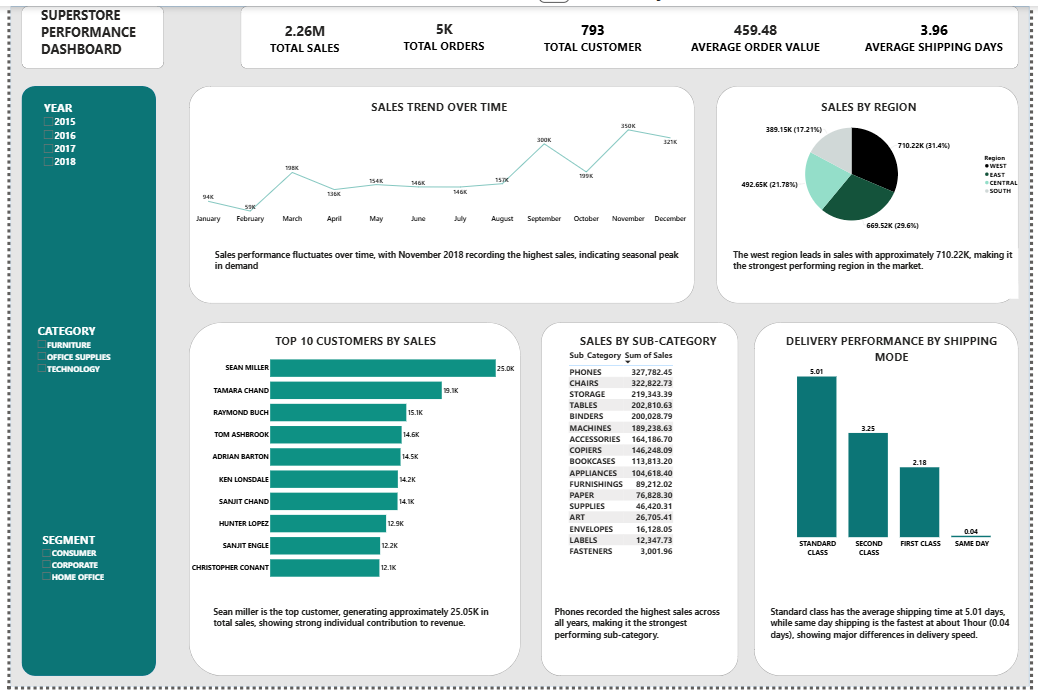

This screenshot's page, from the dashboard's own definition file:
{"tool":"powerbi","page":{"name":"Page 3","canvas":[6000,4000],"ordinal":0},"visuals":[{"type":"shape","box":[0,0,5990.9,4003.2],"z":0,"group":"g1"},{"type":"shape","box":[64.4,0,837.4,368.1],"z":1000,"group":"g1"},{"type":"shape","box":[64.4,469.3,791.4,3469.4],"z":2000,"group":"g1"},{"type":"shape","box":[1352.8,0,4573.7,368.1],"z":3000,"group":"g1"},{"type":"shape","box":[3119.7,1858.9,1159.5,2079.8],"z":4000,"group":"g1"},{"type":"shape","box":[1049.1,1858.9,1951,2079.8],"z":5000,"group":"g1"},{"type":"shape","box":[4371.3,1858.9,1555.3,2079.8],"z":6000,"group":"g1"},{"type":"shape","box":[4150.4,469.3,1776.1,1279.2],"z":7000,"group":"g1"},{"type":"shape","box":[1049.1,469.3,2972.5,1279.2],"z":8000,"group":"g1"},{"type":"group","id":"g1","title":"Group 1","box":[0,0,5990.9,4003.2],"z":10500},{"type":"cardVisual","fields":{"Data":["superstore_final_dataset (1).TOTAL ORDERS"]},"box":[2208.6,36.8,681,285.3],"z":10625},{"type":"cardVisual","fields":{"Data":["superstore_final_dataset (1).AVERAGE ORDER VALUE"]},"box":[3947.9,0,865.1,368.1],"z":10750},{"type":"cardVisual","fields":{"Data":["superstore_final_dataset (1).TOTAL CUSTOMER"]},"box":[3009.3,55.2,828.2,257.7],"z":11000},{"type":"cardVisual","fields":{"Data":["superstore_final_dataset (1).TOTAL SALES"]},"box":[1362,82.8,736.2,211.7],"z":12000},{"type":"cardVisual","fields":{"Data":["superstore_final_dataset (1).AVERAGE SHIPPING DAYS"]},"box":[4923.4,36.8,1012.3,294.5],"z":13000},{"type":"textbox","title":"SUPERSTORE PERFORMANCE DASHBOARD","box":[174.9,0,763.8,368.1],"z":14000},{"type":"lineChart","title":"SALES TREND OVER TIME","fields":{"Category":["superstore_final_dataset (1).Order_Date.Variation.Date Hierarchy.Month"],"Y":["Sum(superstore_final_dataset (1).Sales)"]},"box":[1058.3,543,2926.5,745.4],"z":15000},{"type":"clusteredBarChart","title":"TOP 10 CUSTOMERS BY SALES","fields":{"Category":["superstore_final_dataset (1).Customer_Name"],"Y":["Sum(superstore_final_dataset (1).Sales)"]},"box":[1058.3,1923.4,1941.8,1490.8],"z":16000},{"type":"clusteredColumnChart","title":"DELIVERY PERFORMANCE BY SHIPPING MODE","fields":{"Category":["superstore_final_dataset (1).Ship_Mode"],"Y":["Avg(superstore_final_dataset (1).SHIPPING DAYS)"]},"box":[4463.3,1923.4,1435.6,1325.2],"z":17000},{"type":"tableEx","title":"SALES BY SUB-CATEGORY","fields":{"Values":["superstore_final_dataset (1).Sub_Category","Sum(superstore_final_dataset (1).Sales)"]},"box":[3276.2,1923.4,947.9,1325.2],"z":18000},{"type":"pieChart","title":"SALES BY REGION","fields":{"Category":["superstore_final_dataset (1).Region"],"Y":["Sum(superstore_final_dataset (1).Sales)"]},"box":[4159.6,543,1776.1,800.6],"z":19000},{"type":"slicer","fields":{"Values":["superstore_final_dataset (1).Order_Date.Variation.Date Hierarchy.Year"]},"box":[184.1,543,616.6,423.3],"z":20000},{"type":"slicer","fields":{"Values":["superstore_final_dataset (1).Category"]},"box":[147.2,1858.9,616.6,570.6],"z":21000},{"type":"slicer","fields":{"Values":["superstore_final_dataset (1).Segment"]},"box":[174.9,3082.9,589,524.6],"z":22000},{"type":"textbox","title":"Sales performance fluctuates over time, with November 2018 recording the highest sales, indicating seasonal peak in demand","box":[1196.3,1426.4,2788.4,230.1],"z":23000},{"type":"textbox","title":"The west region leads in sales with approximately 710.22K, making it the strongest performing region in the market.","box":[4242.4,1426.4,1684.1,294.5],"z":23001},{"type":"textbox","title":"Sean miller is the top customer, generating approximately 25.05K in total sales, showing strong individual contribution to revenue.","box":[1187.1,3524.6,1693.3,294.5],"z":23001,"group":"g1"},{"type":"textbox","title":"Phones recorded the highest sales across all years, making it the strongest performing sub-category.","box":[3193.3,3524.6,1030.7,322.1],"z":23001,"group":"g1"},{"type":"textbox","title":"Standard class has the average shipping time at 5.01 days, while same day shipping is the fastest at about 1hour (0.04 days), showing major differences in delivery speed.","box":[4463.3,3524.6,1435.6,294.5],"z":23002,"group":"g1"}]}

Visuals, with their boxes in screenshot pixels (x1, y1, x2, y2), scaled from the page's 6000x4000 canvas onto the 1038x694 screenshot:
shape: 0:0:1036:693
shape: 11:0:156:64
shape: 11:81:148:683
shape: 234:0:1025:64
shape: 540:323:740:683
shape: 181:323:519:683
shape: 756:323:1025:683
shape: 718:81:1025:303
shape: 181:81:696:303
"Group 1" group: 0:0:1036:693
cardVisual - superstore_final_dataset (1).TOTAL ORDERS: 382:6:500:56
cardVisual - superstore_final_dataset (1).AVERAGE ORDER VALUE: 683:0:833:64
cardVisual - superstore_final_dataset (1).TOTAL CUSTOMER: 521:10:664:54
cardVisual - superstore_final_dataset (1).TOTAL SALES: 236:14:363:51
cardVisual - superstore_final_dataset (1).AVERAGE SHIPPING DAYS: 852:6:1027:57
"SUPERSTORE PERFORMANCE DASHBOARD" textbox: 30:0:162:64
"SALES TREND OVER TIME" lineChart: 183:94:689:224
"TOP 10 CUSTOMERS BY SALES" clusteredBarChart: 183:334:519:592
"DELIVERY PERFORMANCE BY SHIPPING MODE" clusteredColumnChart: 772:334:1021:564
"SALES BY SUB-CATEGORY" tableEx: 567:334:731:564
"SALES BY REGION" pieChart: 720:94:1027:233
slicer - superstore_final_dataset (1).Order_Date.Variation.Date Hierarchy.Year: 32:94:139:168
slicer - superstore_final_dataset (1).Category: 25:323:132:422
slicer - superstore_final_dataset (1).Segment: 30:535:132:626
"Sales performance fluctuates over time, with November 2018 recording the highest sales, indicating seasonal peak in demand" textbox: 207:247:689:287
"The west region leads in sales with approximately 710.22K, making it the strongest performing region in the market." textbox: 734:247:1025:299
"Sean miller is the top customer, generating approximately 25.05K in total sales, showing strong individual contribution to revenue." textbox: 205:612:498:663
"Phones recorded the highest sales across all years, making it the strongest performing sub-category." textbox: 552:612:731:667
"Standard class has the average shipping time at 5.01 days, while same day shipping is the fastest at about 1hour (0.04 days), showing major differences in delivery speed." textbox: 772:612:1021:663
